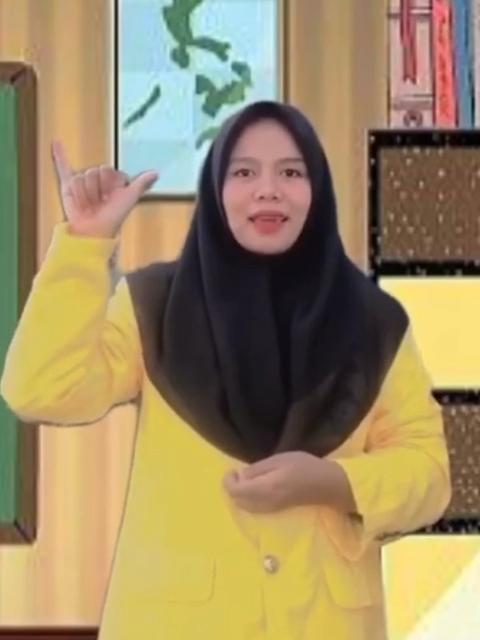Y: (46, 134, 160, 226)
